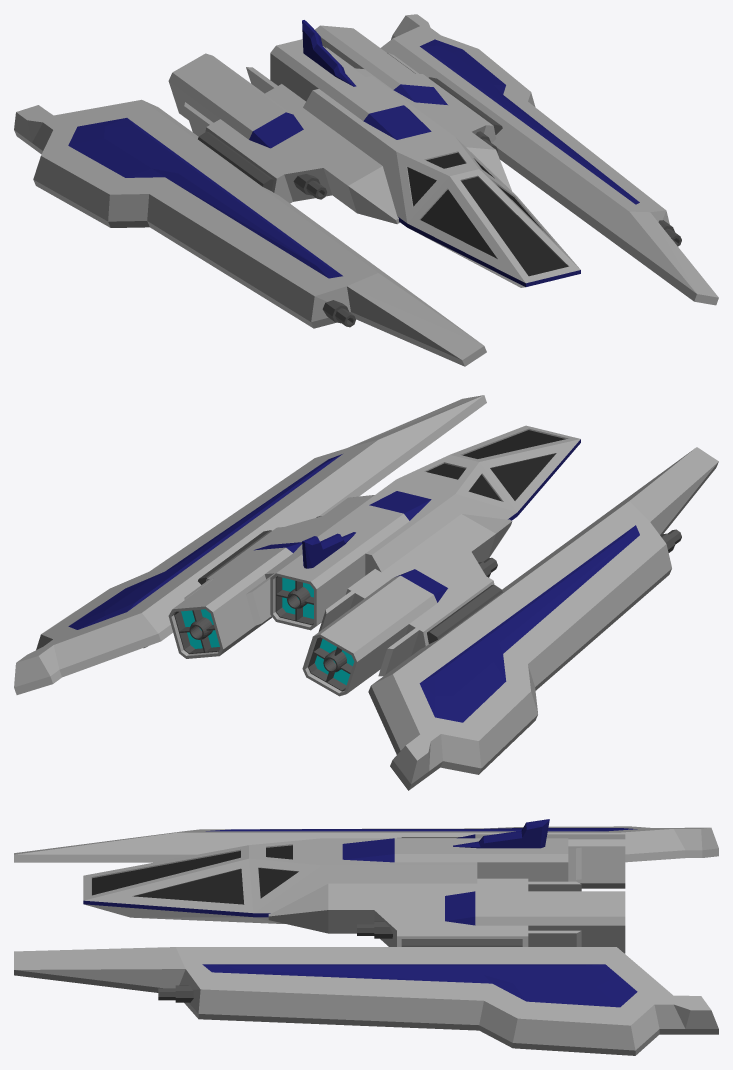
Rendered from Proto_Vehicle_Spaceship_Fighter_01.fbx.
3 renders of one model, top to bottom at view 1: azimuth 30°, elevation 25°; view 2: azimuth 150°, elevation 25°; view 3: azimuth 270°, elevation 25°, orthographic. The views are drawn at different scales.
Visible parts, largest first — view 1: Proto_Vehicle_Spaceship_Fighter_01; view 2: Proto_Vehicle_Spaceship_Fighter_01; view 3: Proto_Vehicle_Spaceship_Fighter_01.
Boxes of the visible parts, left/top/right/bottom form: Proto_Vehicle_Spaceship_Fighter_01: left=14, top=14, right=718, bottom=366; Proto_Vehicle_Spaceship_Fighter_01: left=14, top=395, right=718, bottom=790; Proto_Vehicle_Spaceship_Fighter_01: left=14, top=819, right=718, bottom=1055.
Bounding box in the file's own units: 9.15 × 2.84 × 13.36.
